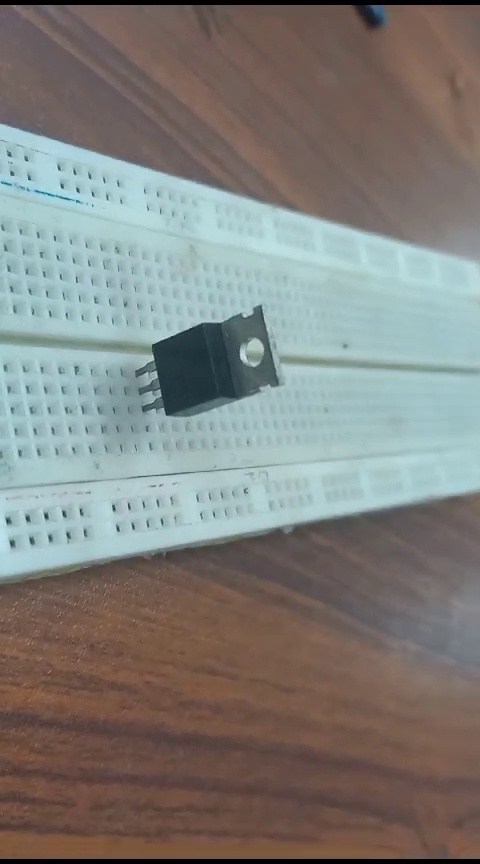voltage regulator: (129, 312, 281, 432)
